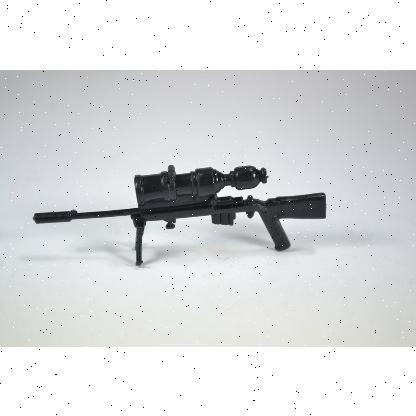gun: (32, 163, 326, 264)
